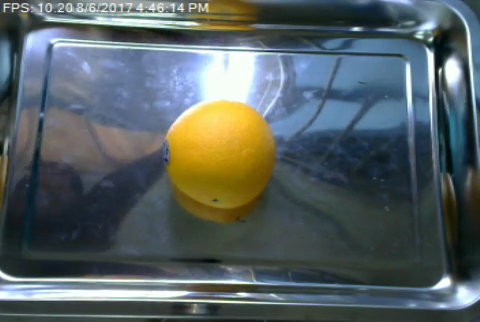Orange: (162, 98, 277, 208)
